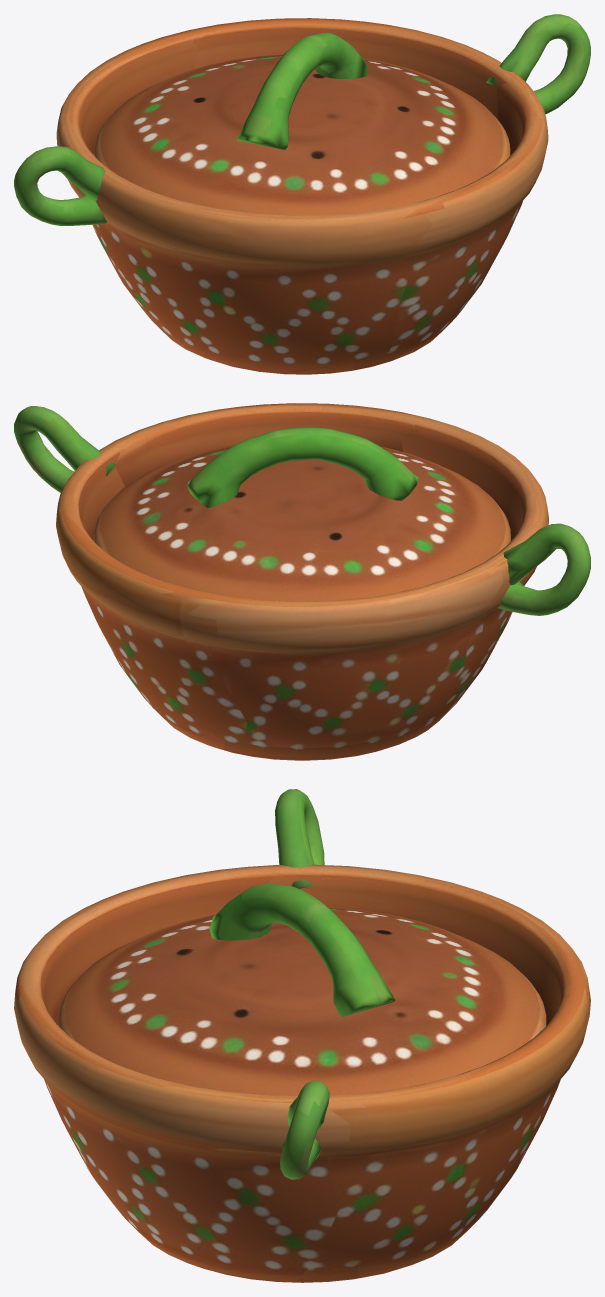
The model's file is cazuela.obj.
3 views of the same model, one above another, from view 1: azimuth 30°, elevation 25°; view 2: azimuth 150°, elevation 25°; view 3: azimuth 270°, elevation 25° (orthographic). The views are drawn at different scales.
Visible parts, largest first — view 1: cazuela; view 2: cazuela; view 3: cazuela.
Boxes of the visible parts, <box> form: cazuela: <box>14,14,590,374</box>; cazuela: <box>14,403,590,760</box>; cazuela: <box>14,789,590,1282</box>.
Size of the model in its own units: 0.3818 by 0.1734 by 0.284.
